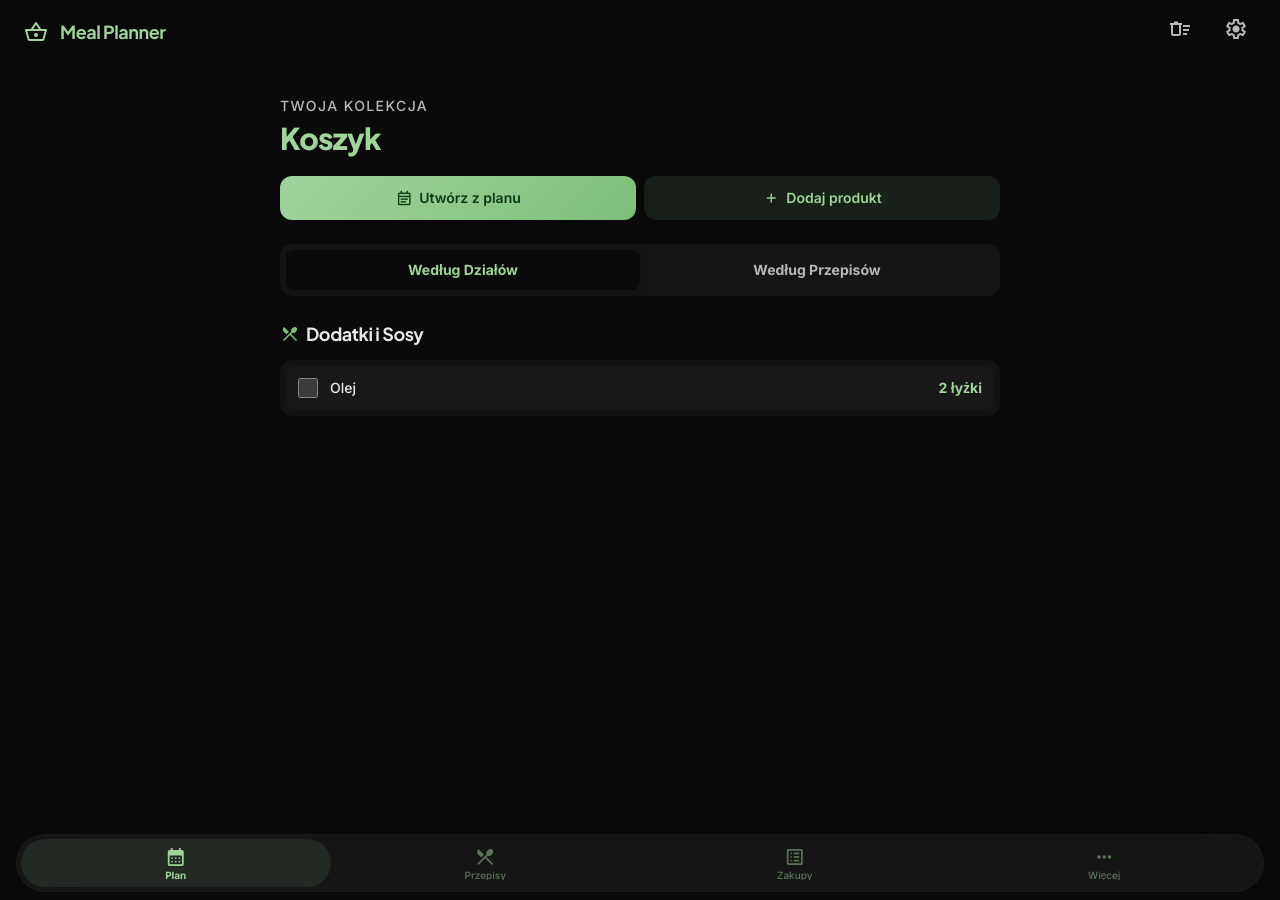
ShoppingList by recipes › shows the total amount of kitchen measures in the base unit
Click the button "Według Przepisów". click: coordinates (817, 270)
box: [640,250,994,290]
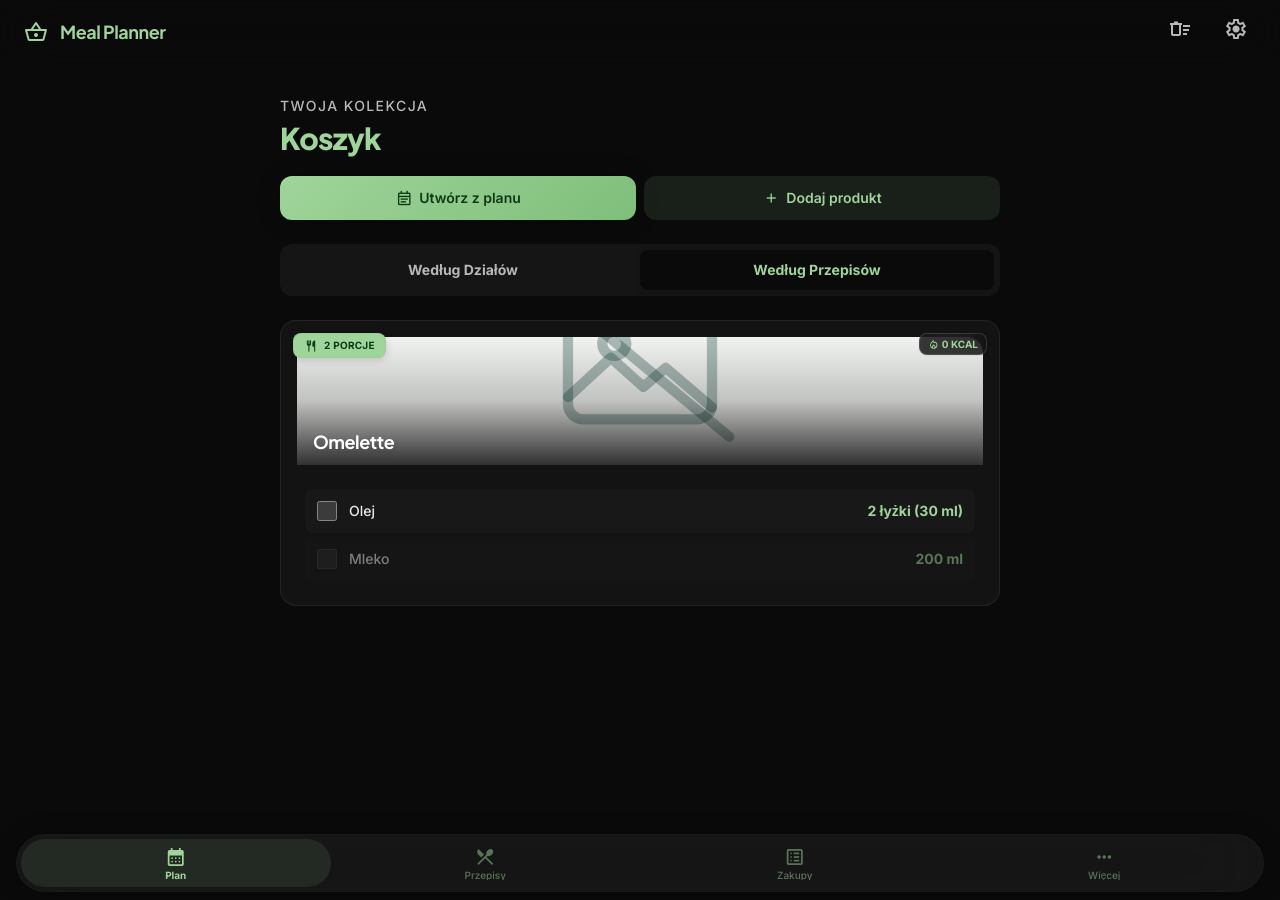
Now the text "2 łyżki (30 ml)" is shown, box [867,501,963,521]
Now the text "200 ml" is shown, box [915,549,963,569]
